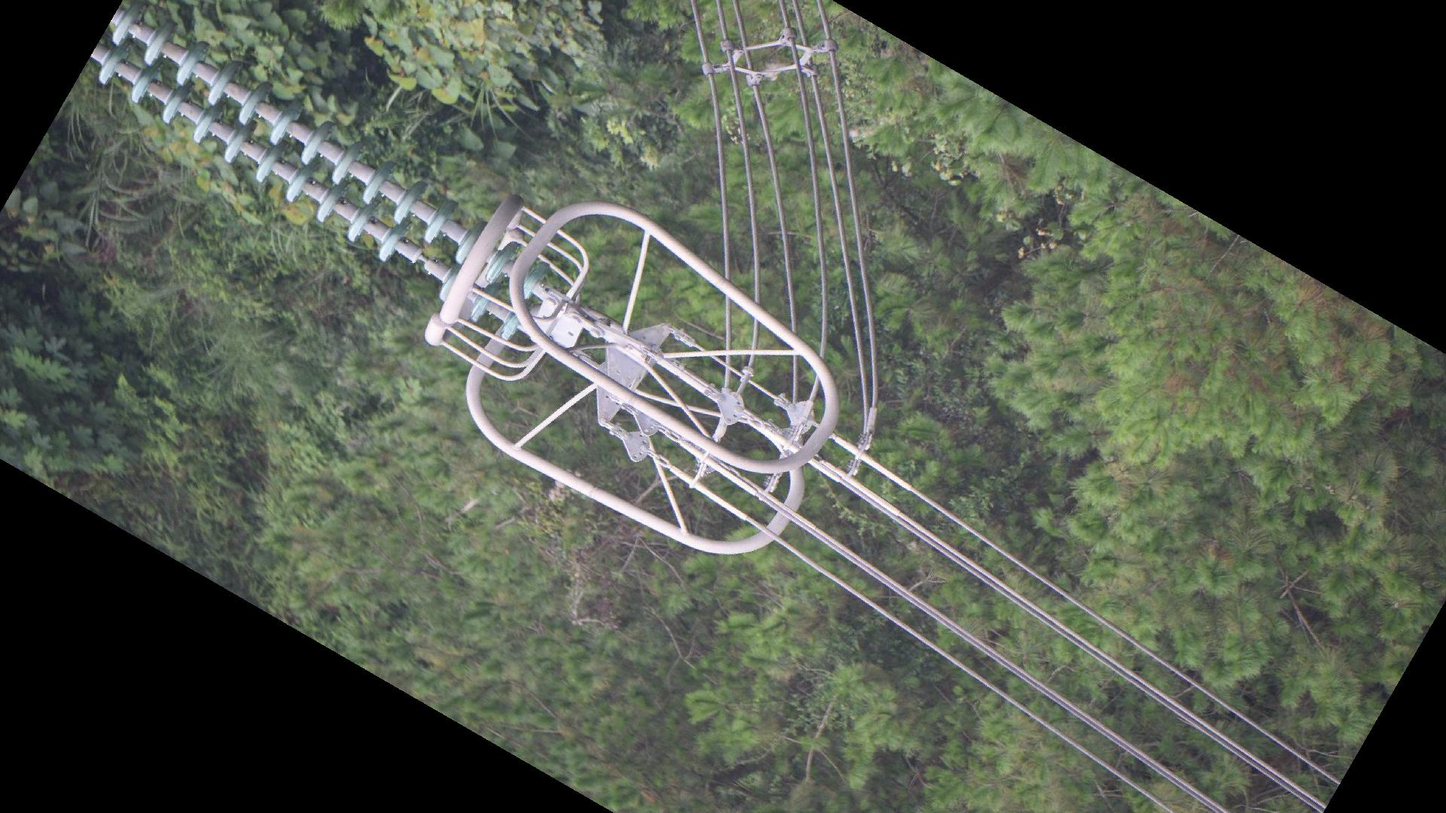insulator: (84, 1, 553, 344)
insulator_stringdrop: (374, 215, 465, 303)
